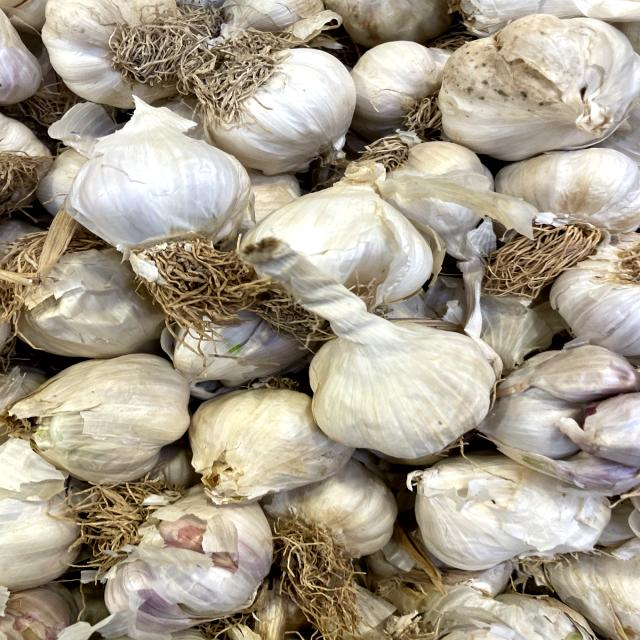garlic: (267, 259, 524, 461), (60, 112, 268, 318), (192, 22, 387, 171)
